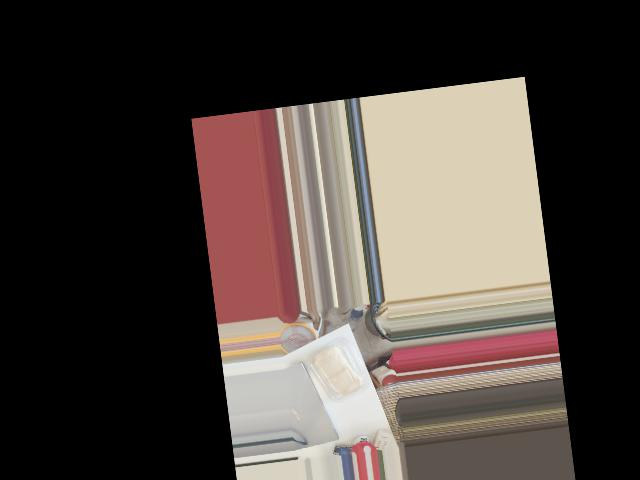cheese: (304, 330, 371, 407)
